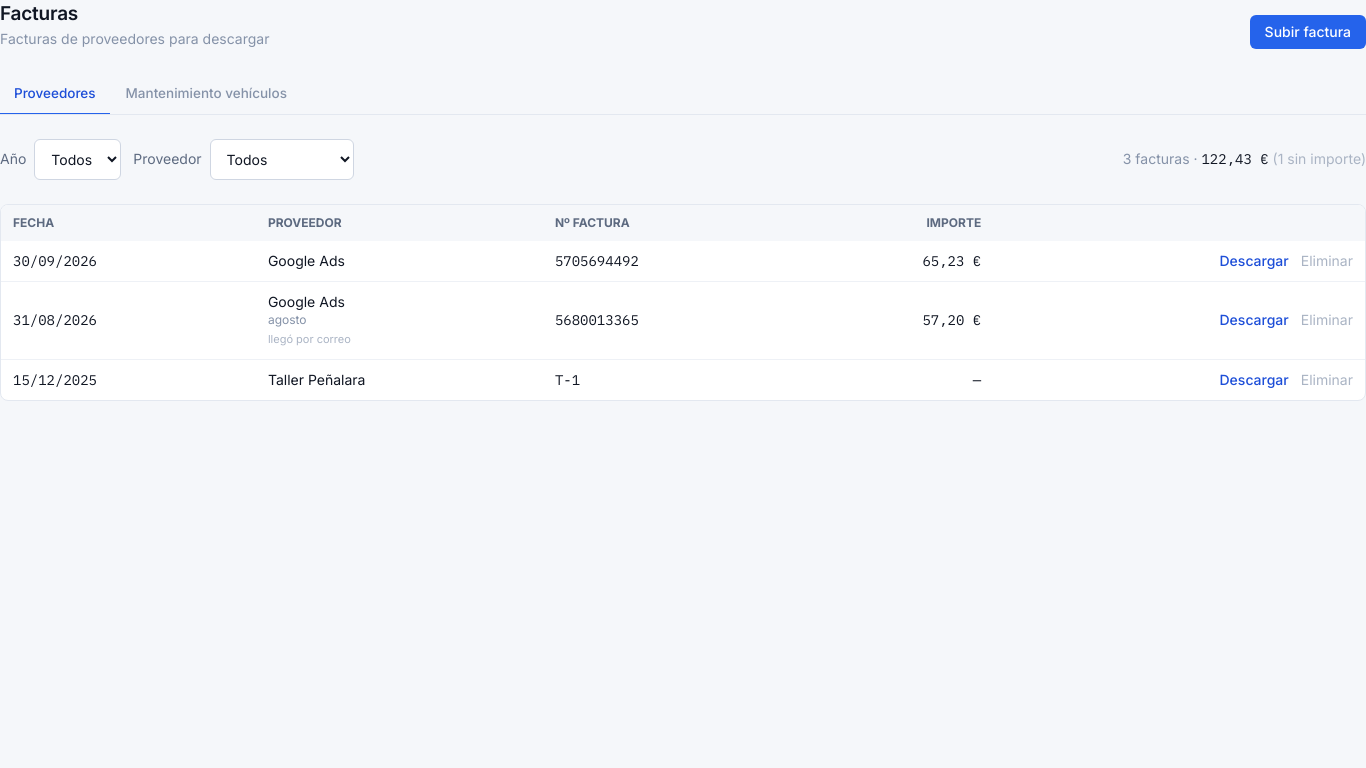
Facturas › si no se puede eliminar, avisa y la deja
Expected: the text "5705694492" is shown, [543,241,798,281]
Click the button with aria-label "Eliminar la factura 5705694492".
click(1327, 261)  # box [1301,251,1353,271]
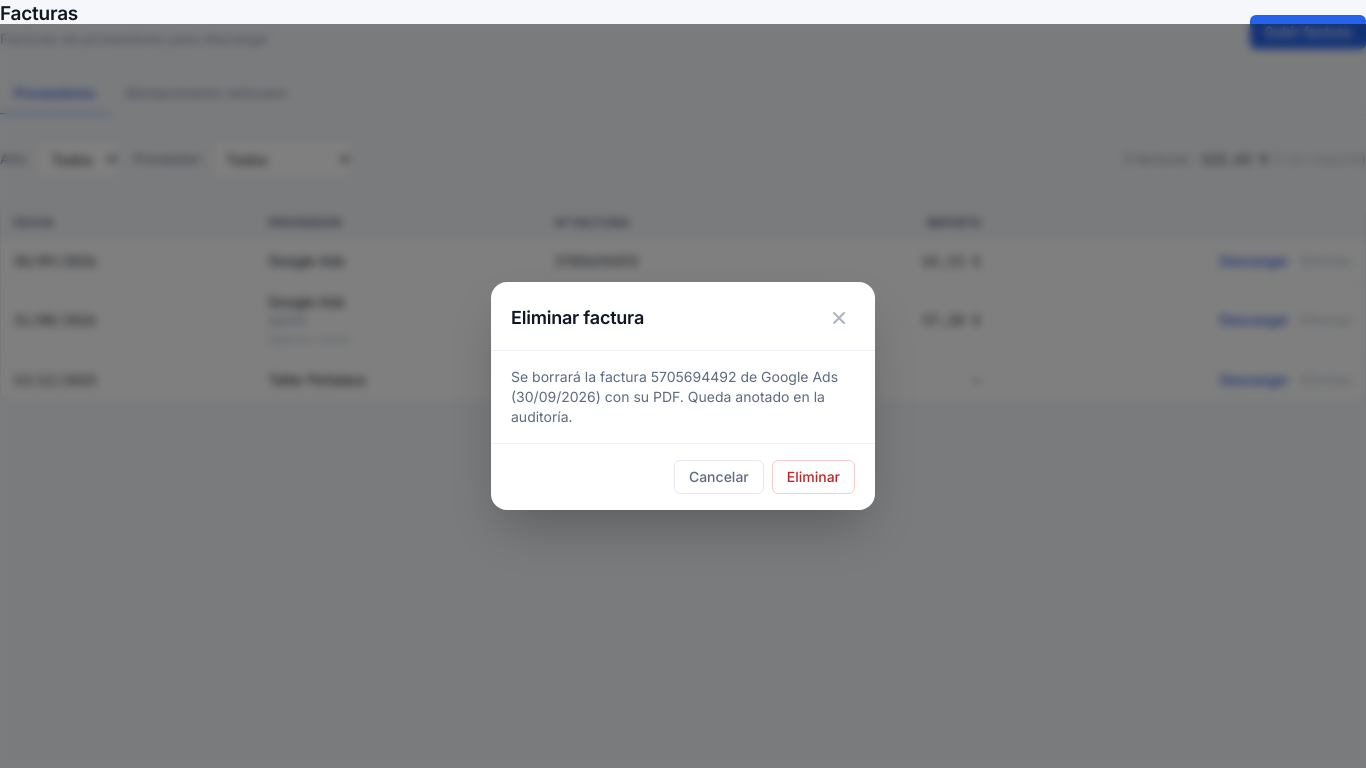
Click the button "Eliminar".
click(813, 477)  # box [772,460,855,494]
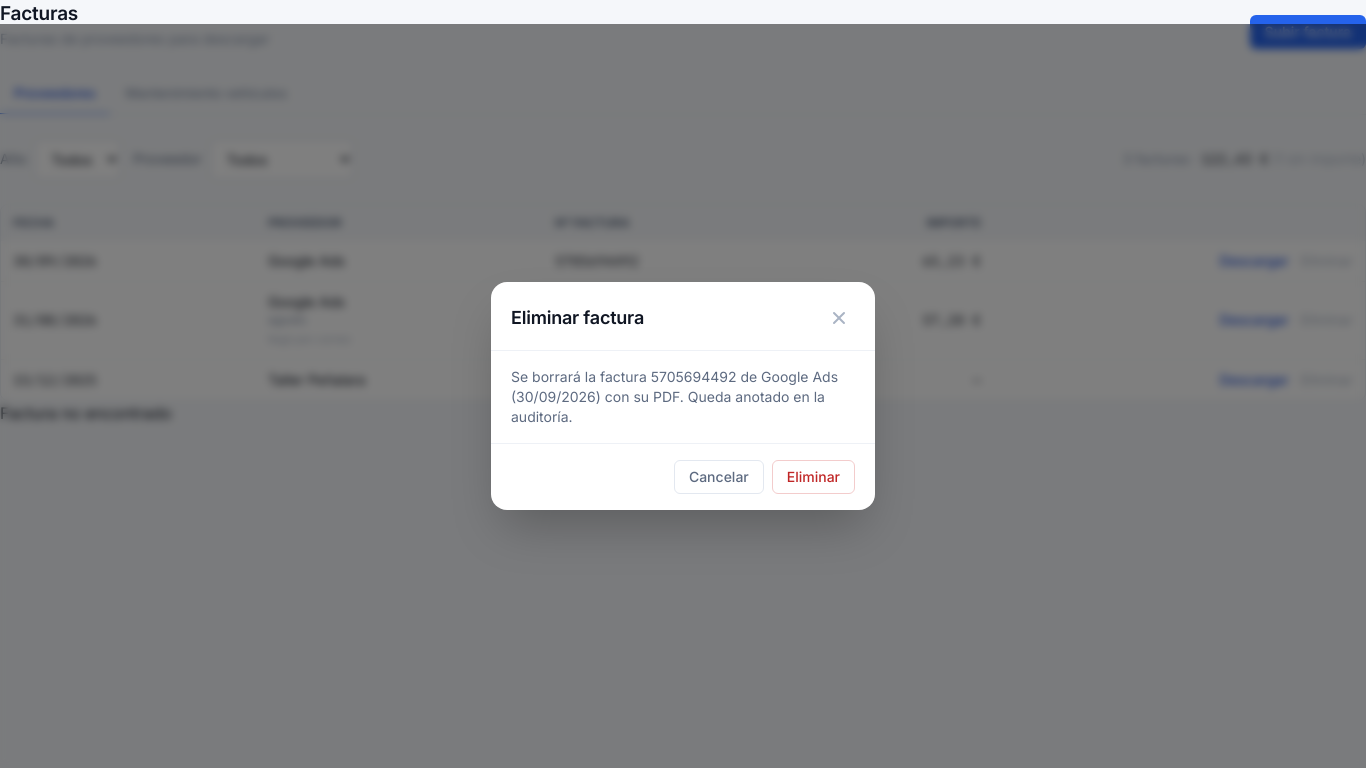
Expected: the text "5705694492" is shown, [543,241,798,281]
Result: the text "Factura no encontrado" is shown at [0,403,172,423]
